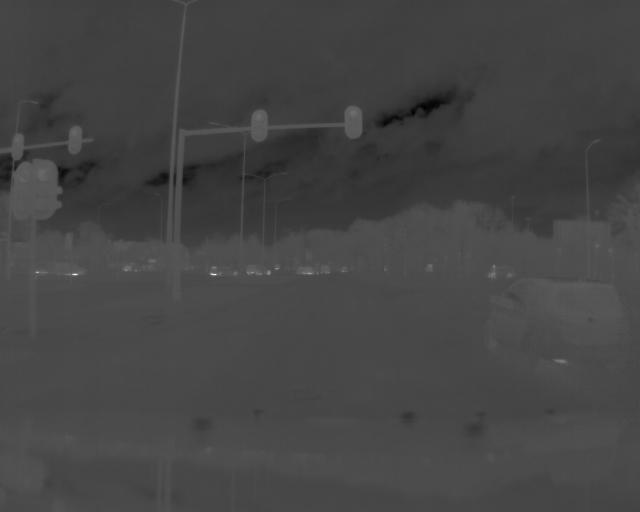car: (480, 273, 629, 389), (205, 259, 242, 277)
